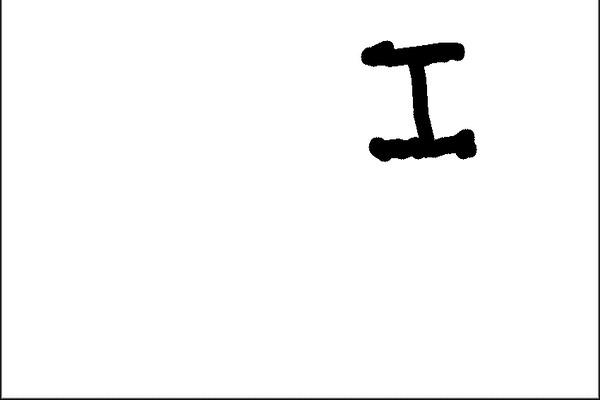i: (350, 27, 485, 166)
